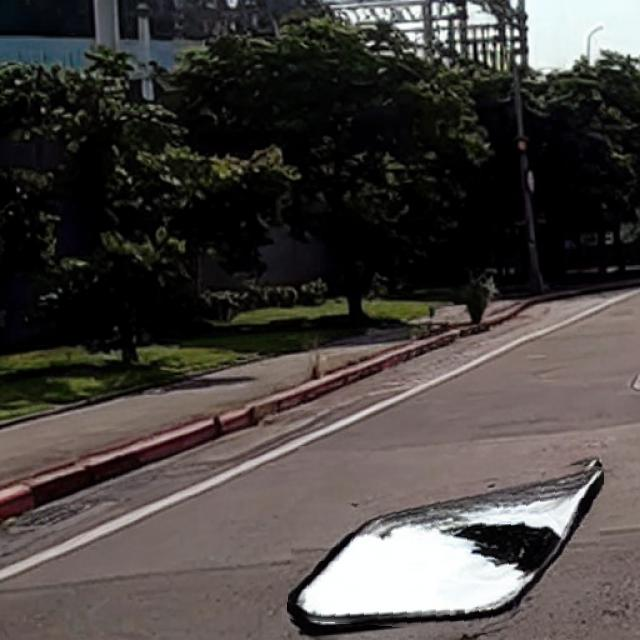puddle: (290, 452, 603, 636)
